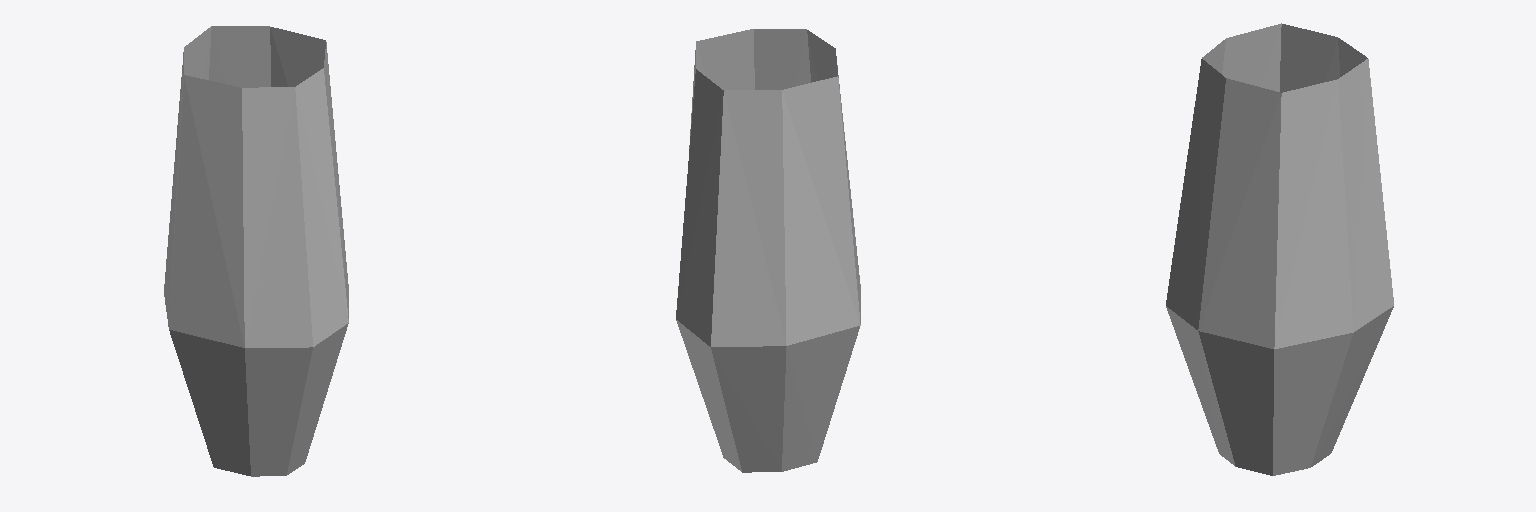
File: queue_3.obj
The picture shows the model from 3 angles: view 1: azimuth 30°, elevation 25°; view 2: azimuth 150°, elevation 25°; view 3: azimuth 270°, elevation 25°; orthographic projection.
Parts seen in each view (by area): view 1: queue3_Wolf.005; view 2: queue3_Wolf.005; view 3: queue3_Wolf.005.
Part boxes in pixels (left/top/right/bottom): queue3_Wolf.005: left=164, top=26, right=348, bottom=476; queue3_Wolf.005: left=676, top=29, right=860, bottom=472; queue3_Wolf.005: left=1166, top=23, right=1393, bottom=475.
Bounding box in the file's own units: 12.33 × 25.92 × 13.58.